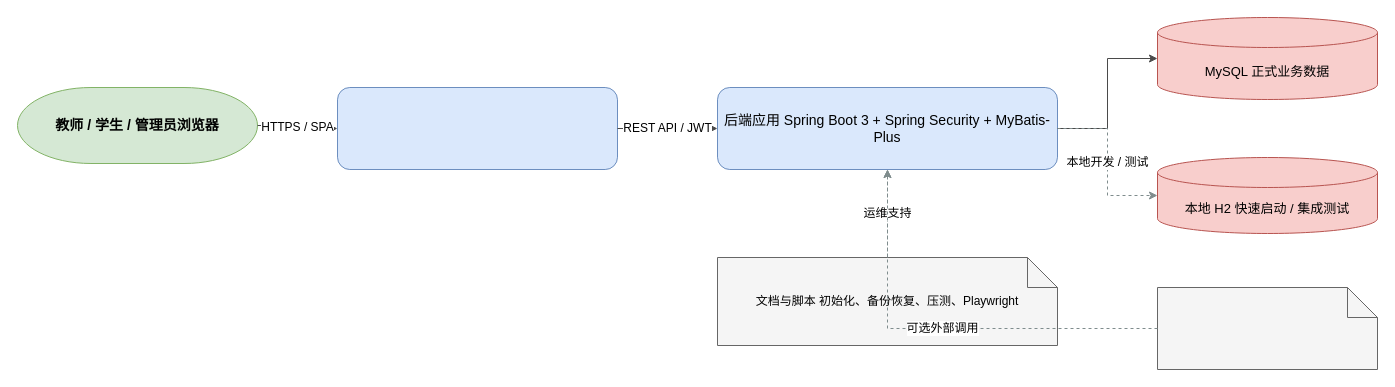
The diagram is 1395 pixels wide and 387 high, and some of its shapes have lost their labels. Each missing label, with the box of its shape:
前端应用 Vue 3 + Vite + Element Plus: (336, 86, 618, 170)
可选 AI 网关 仅环境变量接入，不提交真实 Key: (1156, 286, 1378, 370)
